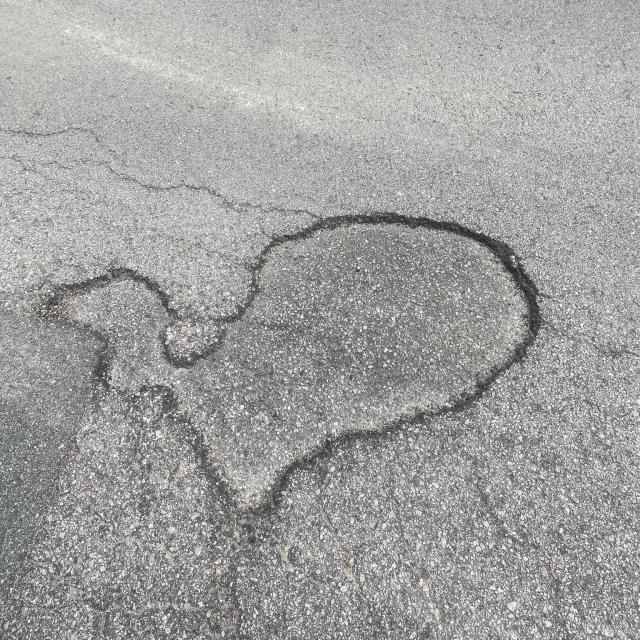pothole: (47, 170, 621, 573)
